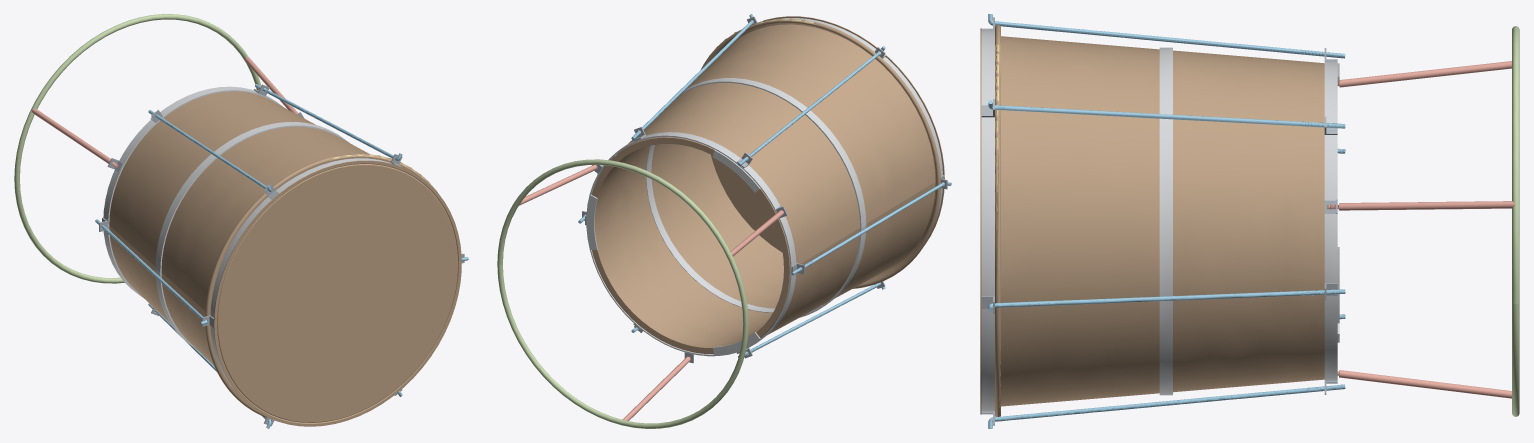
Rendered from engome.glb.
The picture shows the model from 3 angles, left to right: view 1: azimuth 30°, elevation 25°; view 2: azimuth 150°, elevation 25°; view 3: azimuth 270°, elevation 25°; orthographic projection. The views are drawn at different scales.
Parts seen in each view (by area): view 1: bojo_aro_topo, bojo, base_circular, arquilha_externa, aro_baixo, aro_cima, esticador_5, pe_1, esticador_1, esticador_6; view 2: bojo, bojo_aro_topo, base_circular, aro_baixo, arquilha_externa, arquilha_interna, aro_cima, esticador_6, esticador_1, esticador_5, esticador_2, pe_2 (+3 smaller); view 3: bojo, aro_cima, arquilha_externa, aro_baixo, base_circular, bojo_aro_topo, esticador_4, esticador_6, esticador_5, esticador_3, pe_3, pe_2 (+1 smaller).
Boxes of the visible parts, x1,y1,x2,y2 form: bojo_aro_topo: (205,153,461,426); bojo: (109,91,369,365); base_circular: (14,14,261,283); arquilha_externa: (155,122,349,350); aro_baixo: (103,86,282,297); aro_cima: (210,158,391,388); esticador_5: (255,84,402,160); pe_1: (31,109,118,167); esticador_1: (95,219,207,325); esticador_6: (148,110,271,191); bojo: (592,24,935,354); bojo_aro_topo: (701,16,944,288); base_circular: (497,159,748,428); aro_baixo: (586,132,796,356); arquilha_externa: (681,78,866,317); arquilha_interna: (646,145,774,312); aro_cima: (772,18,942,222); esticador_6: (738,46,885,165); esticador_1: (791,182,951,275); esticador_5: (631,14,753,139); esticador_2: (738,282,885,357); pe_2: (622,356,690,420); bojo: (1000,36,1324,406); aro_cima: (981,30,994,411); arquilha_externa: (1159,47,1172,395); aro_baixo: (1324,61,1337,380); base_circular: (1512,26,1519,416); bojo_aro_topo: (980,25,1000,416); esticador_4: (988,384,1345,428); esticador_6: (988,14,1345,58); esticador_5: (988,100,1345,128); esticador_3: (988,289,1345,311); pe_3: (1327,201,1515,210); pe_2: (1337,370,1511,398).
Bounding box in the file's own units: 702 × 663 × 908.
